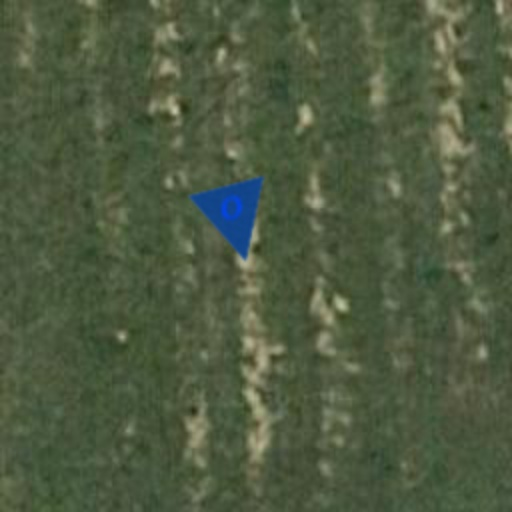triangle: (186, 174, 286, 274)
